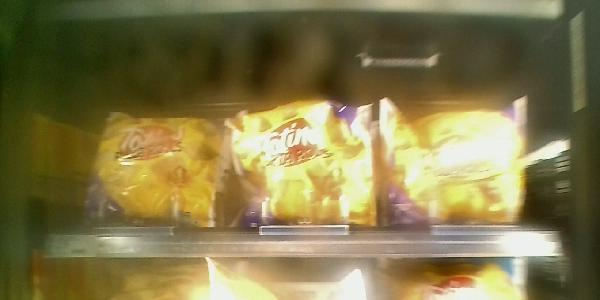icecream: (230, 106, 385, 241), (388, 101, 527, 229), (98, 111, 221, 230)
